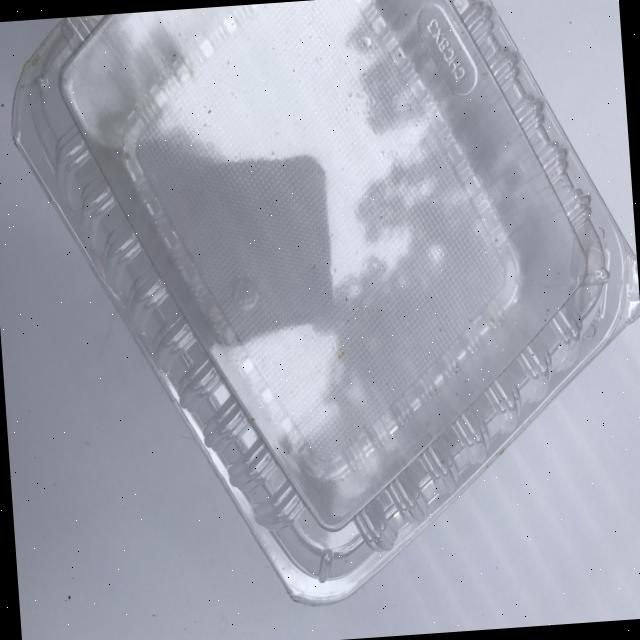plastic: (1, 0, 640, 625)
